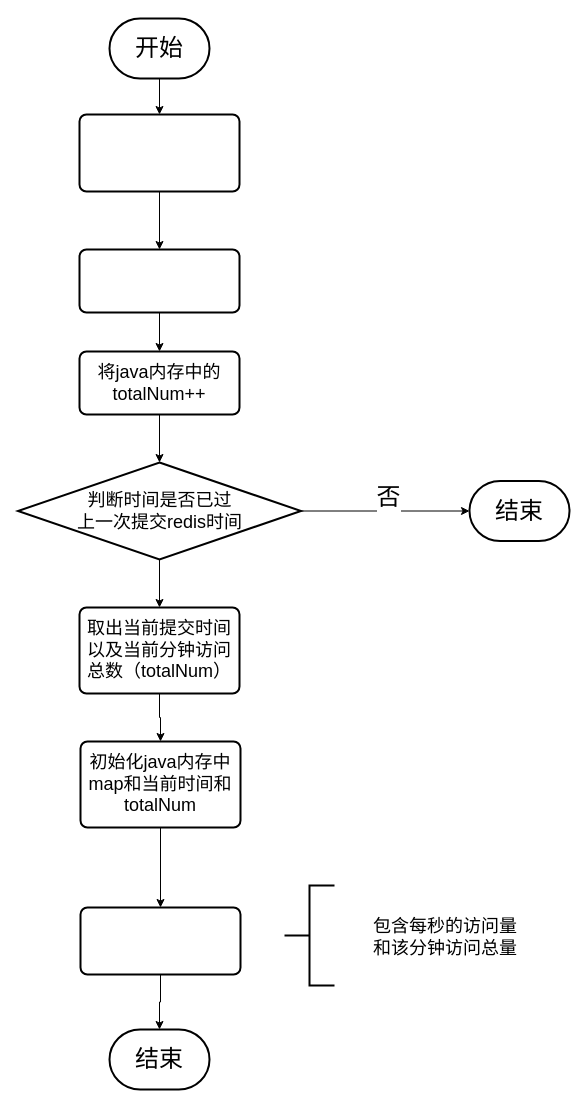
Image size: 588x1107. Some labels were removed from this diagram. The centre of each missing label's shape, as x and y in pixels:
"异步提交数据至 Redis" goes at pixel 160 940.
"有一个 工作台dsf请求 经过新增的过滤器" goes at pixel 159 152.
"获取当前的时间 秒级+分级" goes at pixel 159 280.
